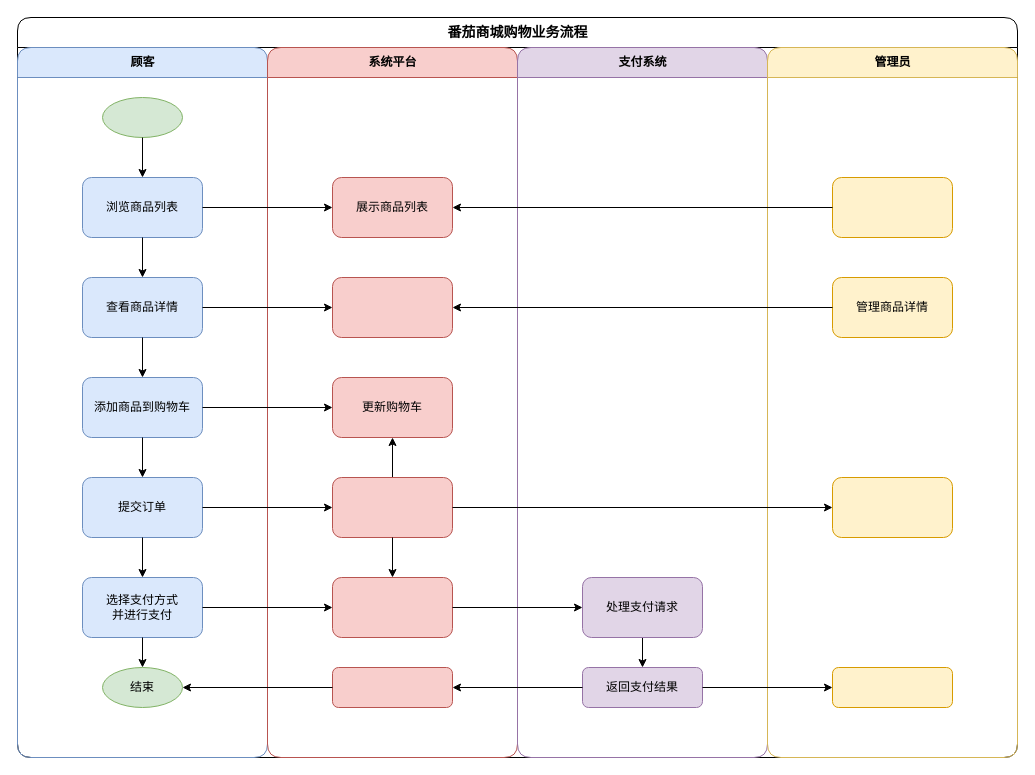
This 1035x775 diagram has some shape labels left out. The shapes that lost their labels are listed below. From the top down, each one's centre as x and y in pixels, then its label:
At (142,117): "开始".
At (892,207): "管理商品列表".
At (392,307): "提供商品详情".
At (392,507): "创建订单".
At (892,507): "审核订单".
At (392,607): "生成支付单据".
At (392,687): "更新订单状态".
At (892,687): "处理发货".
